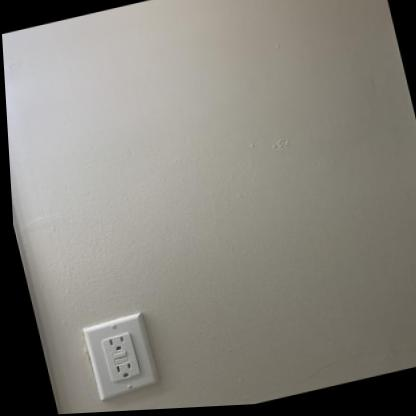OUTLET: (80, 311, 163, 399)
